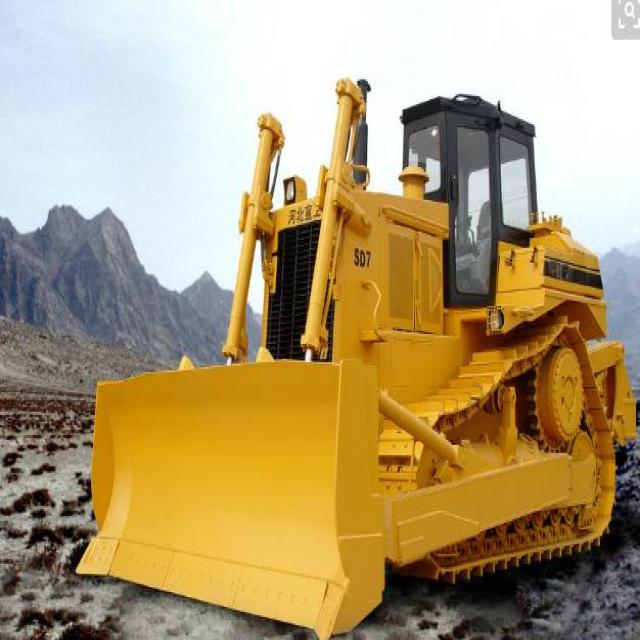buldozerpayloadergrader: (74, 56, 639, 634)
